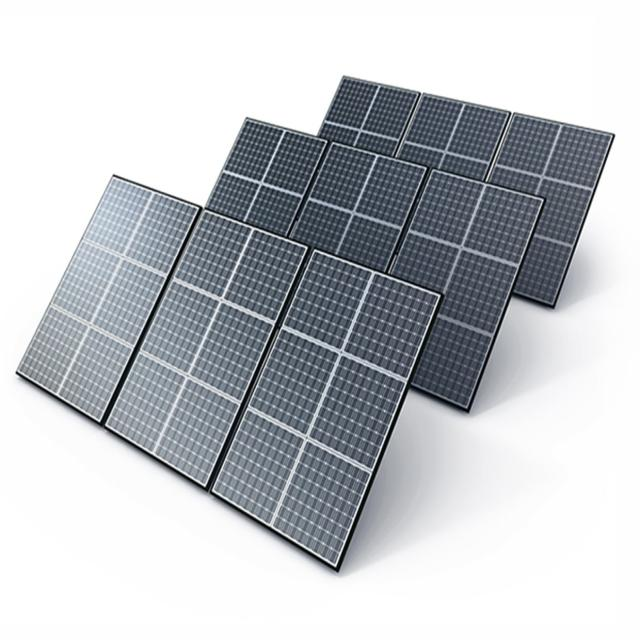clean-solar-panel: (18, 78, 612, 569)
